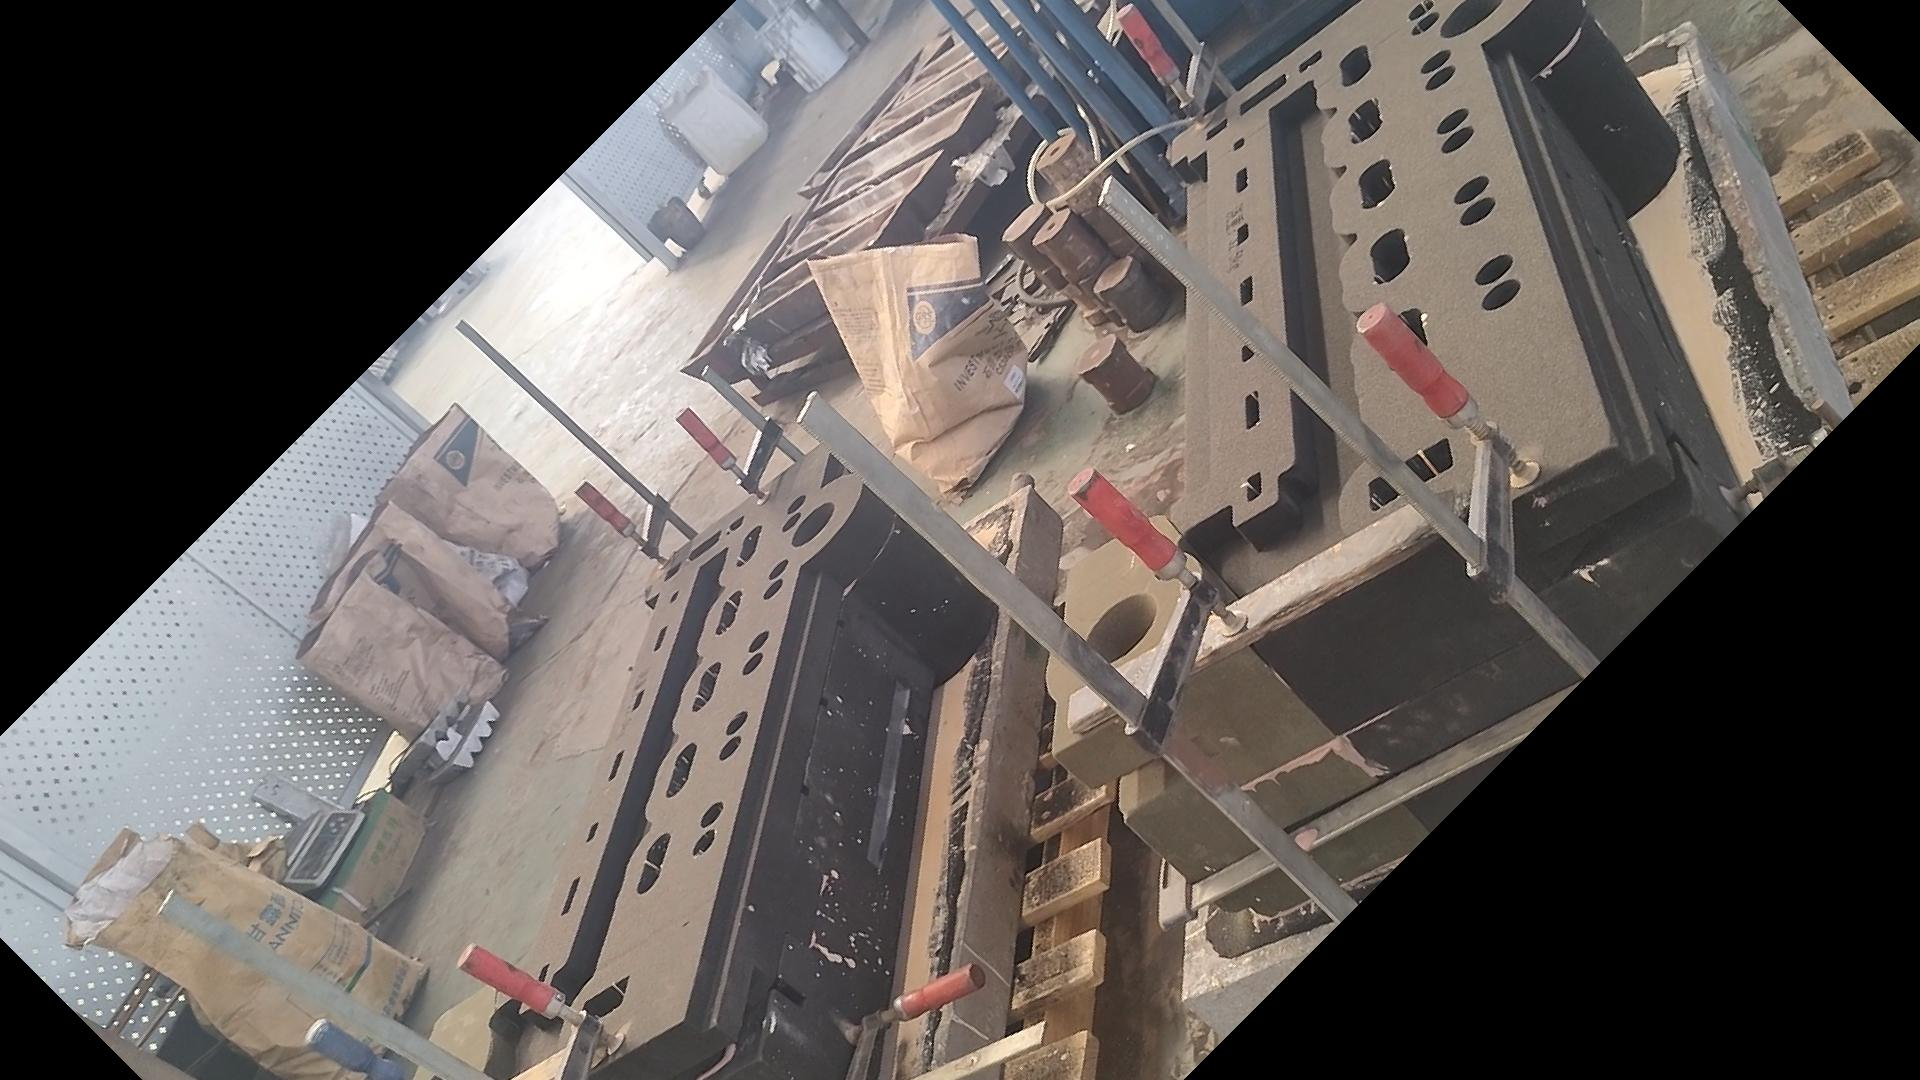pouring hole: (1083, 592, 1158, 665), (1437, 1, 1505, 38), (791, 501, 833, 549), (426, 1072, 447, 1080)
